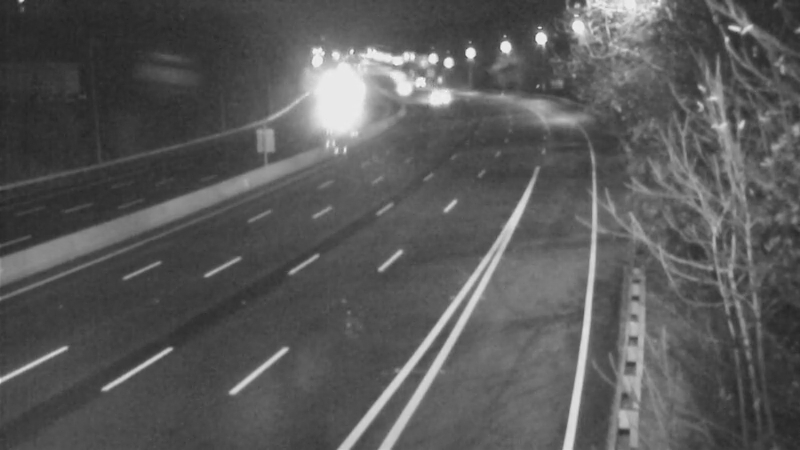vehicle: (377, 63, 427, 113), (410, 72, 460, 122), (311, 81, 361, 131)
